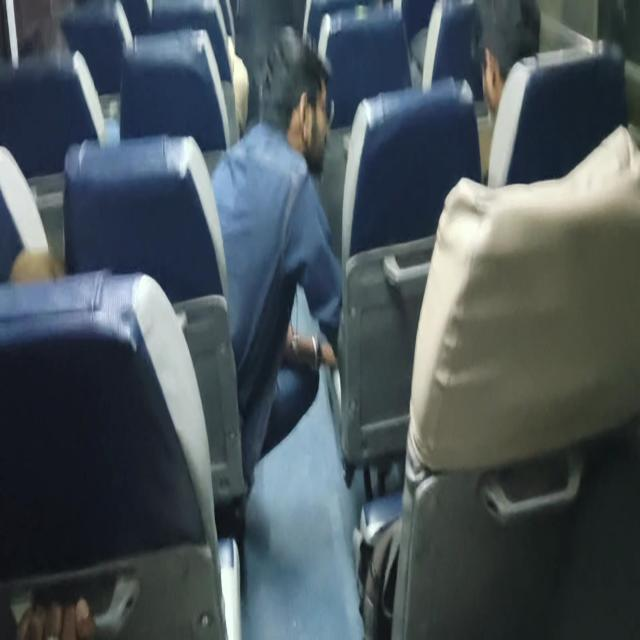person: (459, 0, 529, 130), (272, 46, 320, 196)
